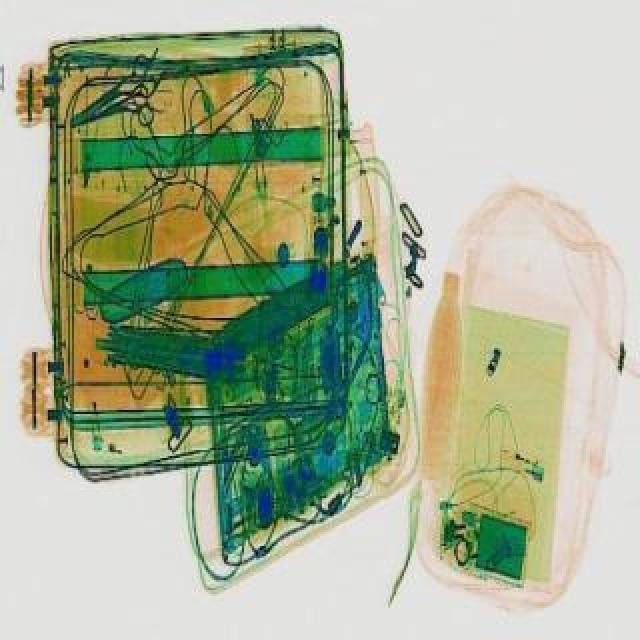pliers: (62, 58, 172, 142), (66, 90, 162, 154)
